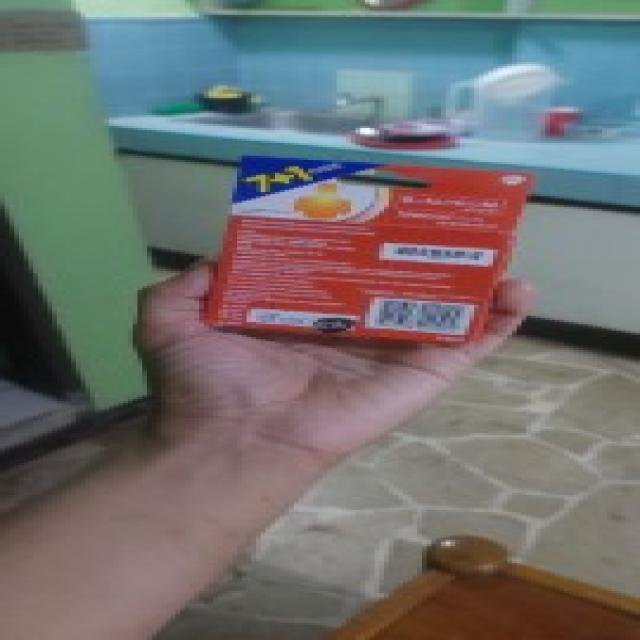Cacat: (197, 156, 540, 340)
